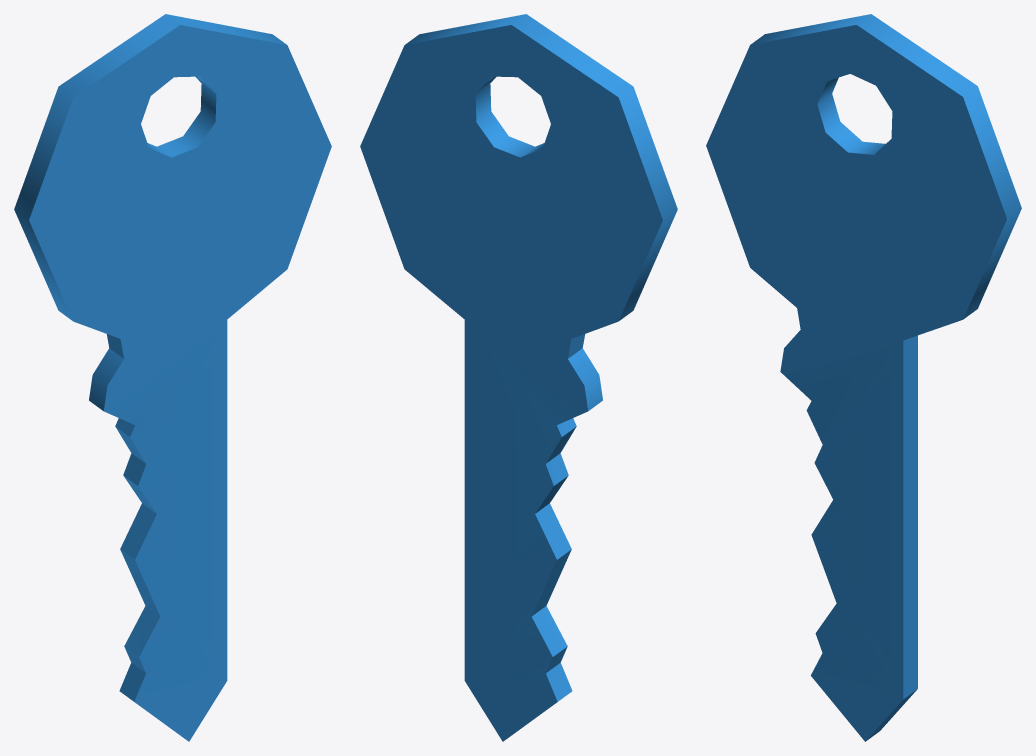
File: Key.fbx
3 renders of one model, left to right at view 1: azimuth 30°, elevation 25°; view 2: azimuth 150°, elevation 25°; view 3: azimuth 330°, elevation 25°, orthographic.
Visible parts, largest first — view 1: key.008; view 2: key.008; view 3: key.008.
Boxes of the visible parts, left/top/right/bottom form: key.008: left=14, top=14, right=331, bottom=741; key.008: left=360, top=14, right=677, bottom=741; key.008: left=706, top=14, right=1021, bottom=741.
Size of the model in its own units: 0.0307 by 0.0696 by 0.00261.
